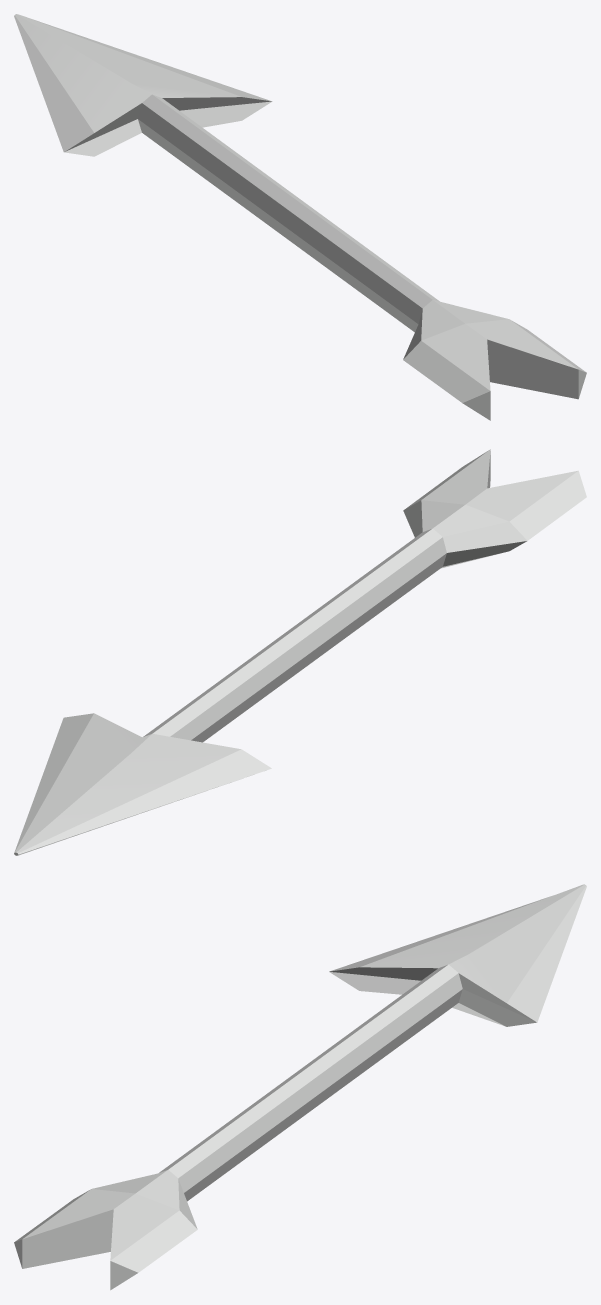
File: P_ARROW.fbx
3 views of the same model, one above another, from view 1: azimuth 30°, elevation 25°; view 2: azimuth 150°, elevation 25°; view 3: azimuth 330°, elevation 25° (orthographic).
Parts seen in each view (by area): view 1: MeshBaker_mesh_mesh; view 2: MeshBaker_mesh_mesh; view 3: MeshBaker_mesh_mesh.
Part boxes in pixels (x1=…): MeshBaker_mesh_mesh: x1=14, y1=14, x2=586, y2=420; MeshBaker_mesh_mesh: x1=14, y1=449, x2=586, y2=855; MeshBaker_mesh_mesh: x1=14, y1=884, x2=586, y2=1290.
Bounding box in the file's own units: 40.1 × 7.78 × 172.
Materials: 1 (1 with a texture image).
